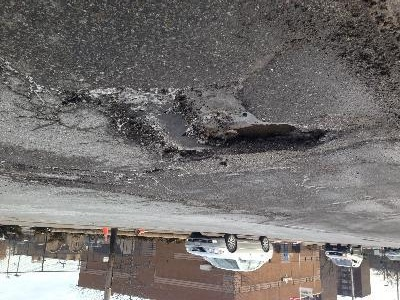pothole: (88, 85, 328, 163), (27, 164, 93, 186)
